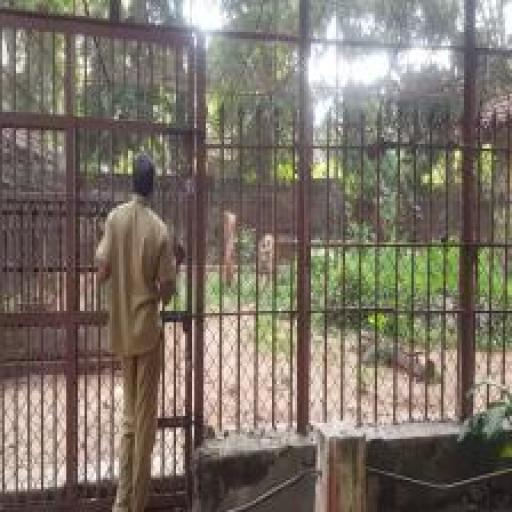Tiger: (208, 151, 294, 326)
